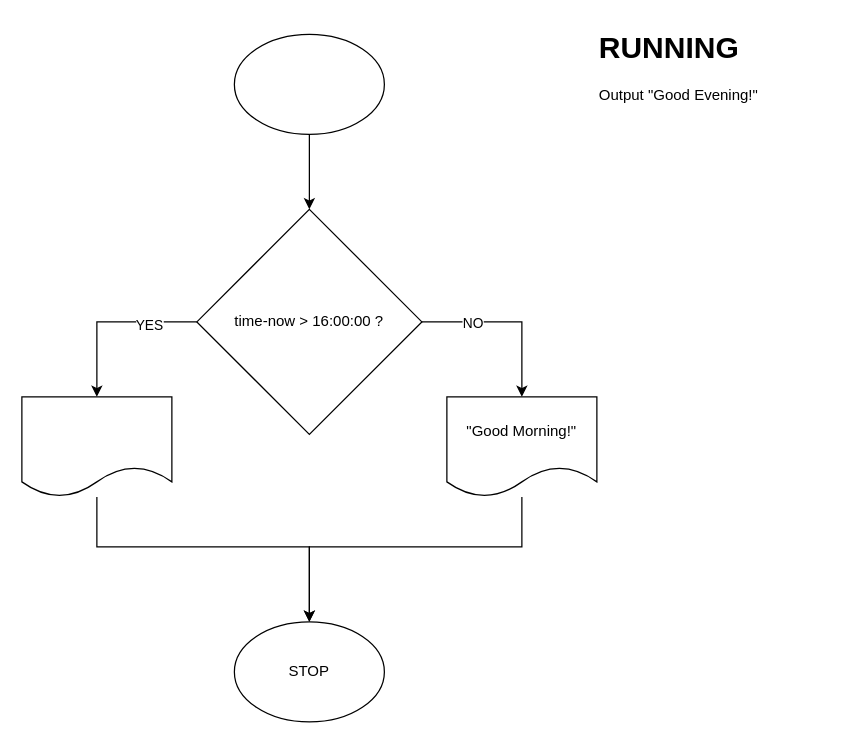
The diagram is 844 pixels wide and 744 high, and some of its shapes have lost their labels. The centre of each missing label's shape, as x and y in pixels:
"Good Evening!": [96,446]
START: [308,83]
